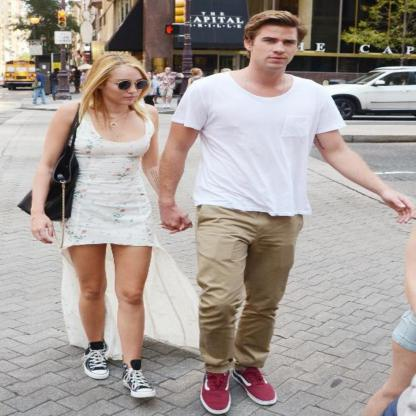face: (253, 23, 299, 71), (104, 65, 144, 107)
